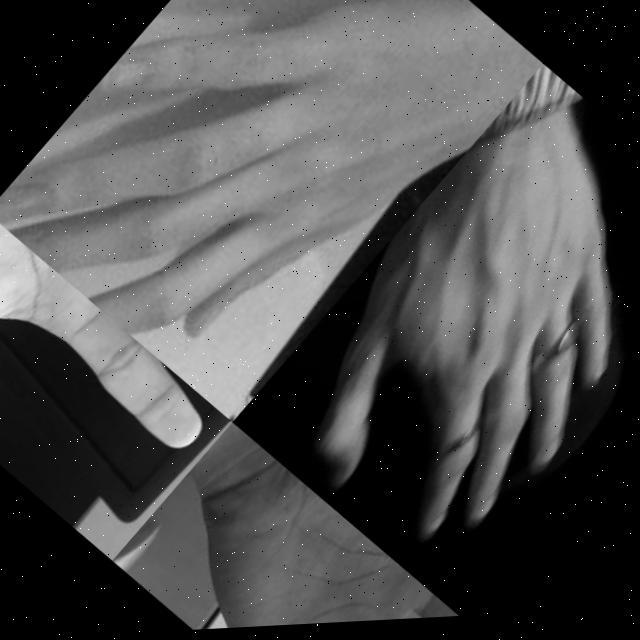no-gloves: (0, 0, 544, 433), (242, 73, 640, 595), (0, 200, 234, 566), (140, 441, 460, 634)
